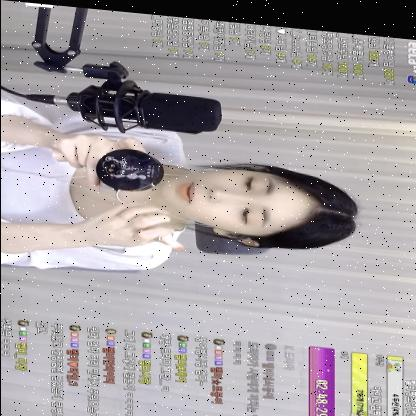streamer: (0, 86, 359, 294)
